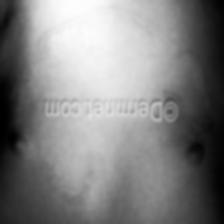Unclassified: (49, 132, 97, 200)
